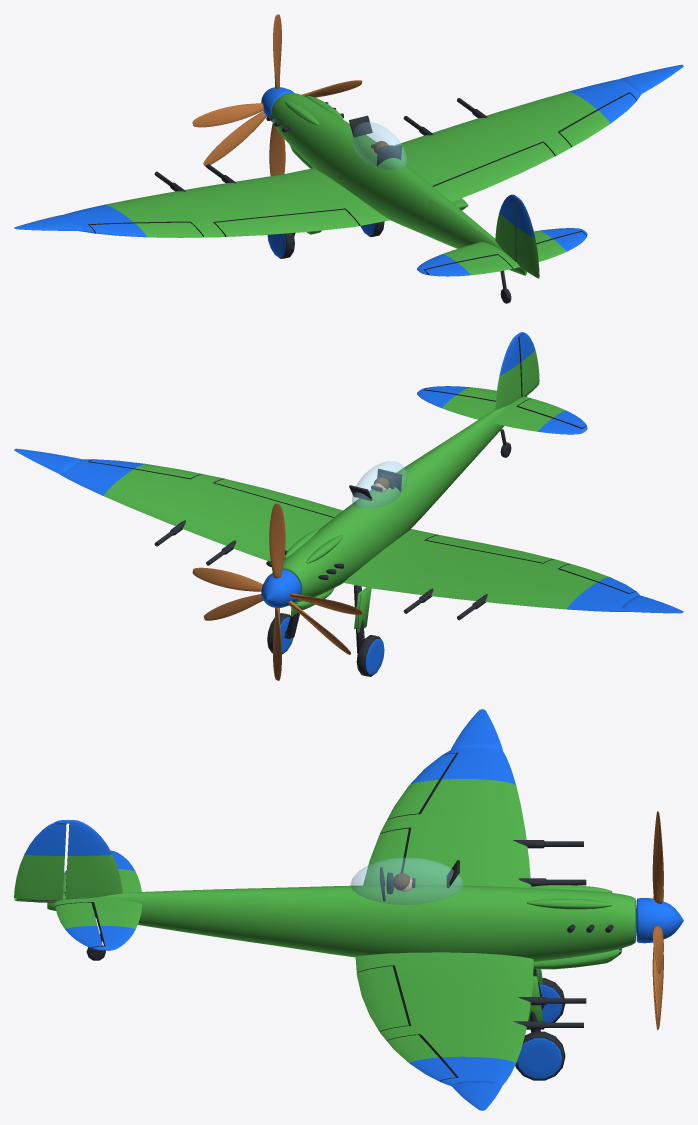
Rendered from spitfire.glb.
3 views of the same model, one above another, from view 1: azimuth 30°, elevation 25°; view 2: azimuth 150°, elevation 25°; view 3: azimuth 270°, elevation 25° (orthographic). The views are drawn at different scales.
Visible parts, largest first — view 1: Fuselage, WingL, WingR, WingTipR, WingTipL, PropellerMesh4, Tail, FlapR, FlapL, Engine, CanopyMesh, AileronL (+12 smaller); view 2: WingL, Fuselage, WingR, WingTipR, WingTipL, Engine, PropellerMesh4, PropellerMesh, Tail, CanopyMesh, StabiliserL, Fin (+13 smaller); view 3: Fuselage, WingR, WingL, Engine, Tail, WingTipL, WingTipR, CanopyMesh, Fin, Rudder, FlapR, StabiliserR (+13 smaller).
Part boxes in pixels (x1,y1,x2,y2): Fuselage: [307, 119, 443, 237]; WingL: [159, 169, 376, 237]; WingR: [394, 109, 563, 210]; WingTipR: [508, 79, 641, 151]; WingTipL: [63, 194, 214, 237]; PropellerMesh4: [192, 14, 362, 175]; Tail: [423, 195, 526, 275]; FlapR: [433, 143, 554, 201]; FlapL: [214, 209, 358, 236]; Engine: [266, 92, 344, 169]; CanopyMesh: [352, 122, 407, 169]; AileronL: [89, 222, 202, 237]; WingL: [352, 531, 562, 604]; Fuselage: [324, 449, 452, 584]; WingR: [157, 476, 333, 561]; WingTipR: [59, 459, 212, 518]; WingTipL: [506, 561, 640, 611]; Engine: [266, 524, 356, 602]; PropellerMesh4: [192, 503, 362, 680]; PropellerMesh: [203, 503, 350, 654]; Tail: [432, 396, 527, 486]; CanopyMesh: [352, 461, 407, 508]; StabiliserL: [494, 397, 587, 434]; Fin: [495, 332, 539, 410]; Fuselage: [264, 872, 533, 963]; WingR: [356, 954, 533, 1036]; WingL: [380, 819, 531, 887]; Engine: [517, 887, 636, 961]; Tail: [47, 888, 263, 943]; WingTipL: [383, 747, 524, 826]; WingTipR: [383, 1028, 524, 1086]; CanopyMesh: [350, 858, 463, 904]; Fin: [14, 820, 122, 902]; Rudder: [14, 823, 66, 900]; FlapR: [356, 966, 408, 1031]; StabiliserR: [55, 899, 142, 950].
Size of the model in its own units: 12.91 by 3.61 by 9.12.
